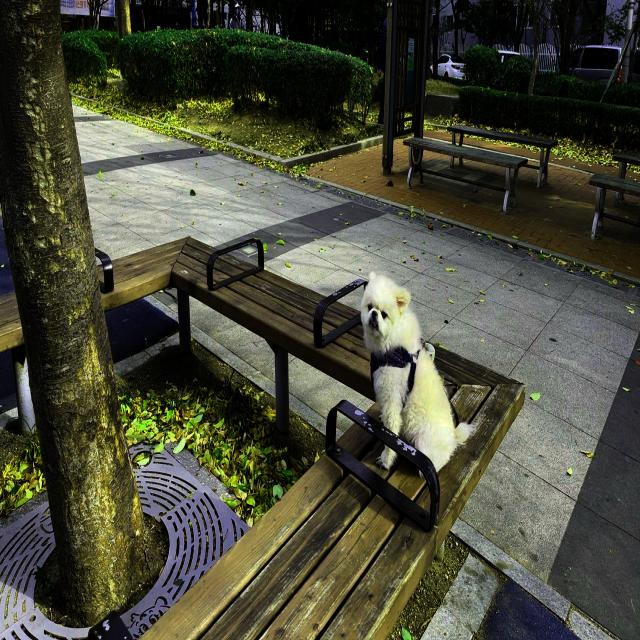Dog: (360, 272, 474, 474)
